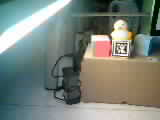duck: (106, 16, 133, 43)
